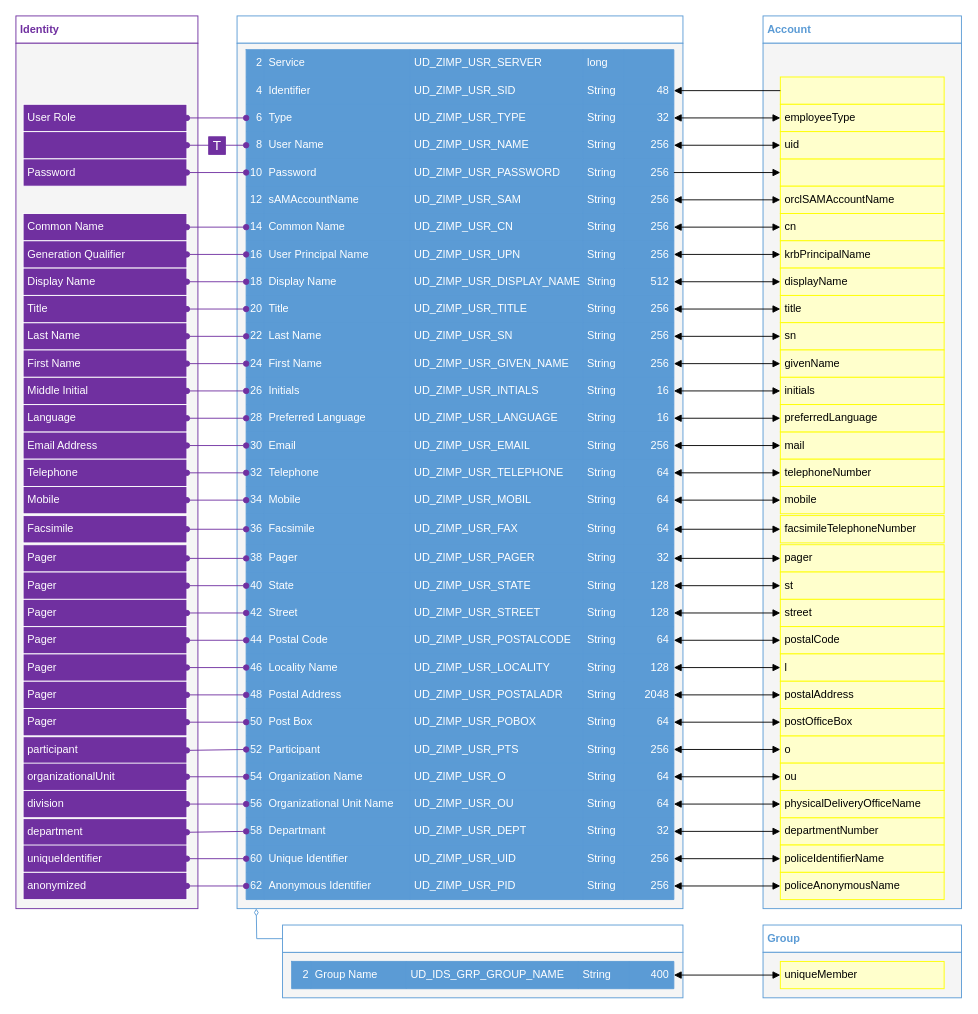
The diagram is 978 pixels wide and 1014 high, and some of its shapes have lost their labels. Here are the shapes that lost their labels. From the top down, the centre of each, then its label:
(459,29): IDS Account
(861,90): entryUUID
(104,145): User Login
(861,172): userPassword
(482,938): IDS Account Group
